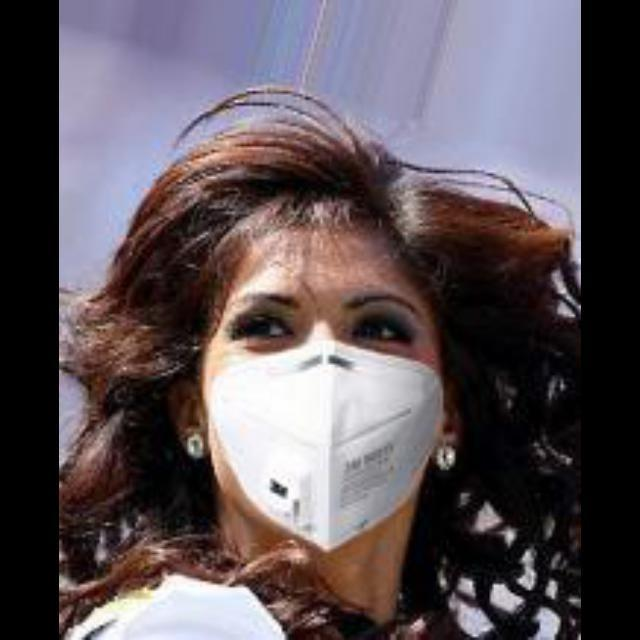suspicion: (119, 91, 503, 569)
